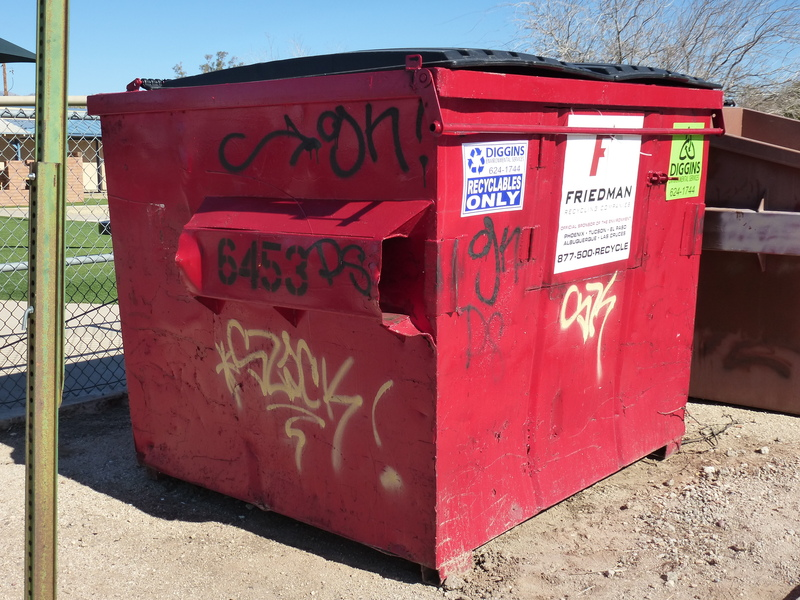Dumpster: (85, 39, 728, 593)
